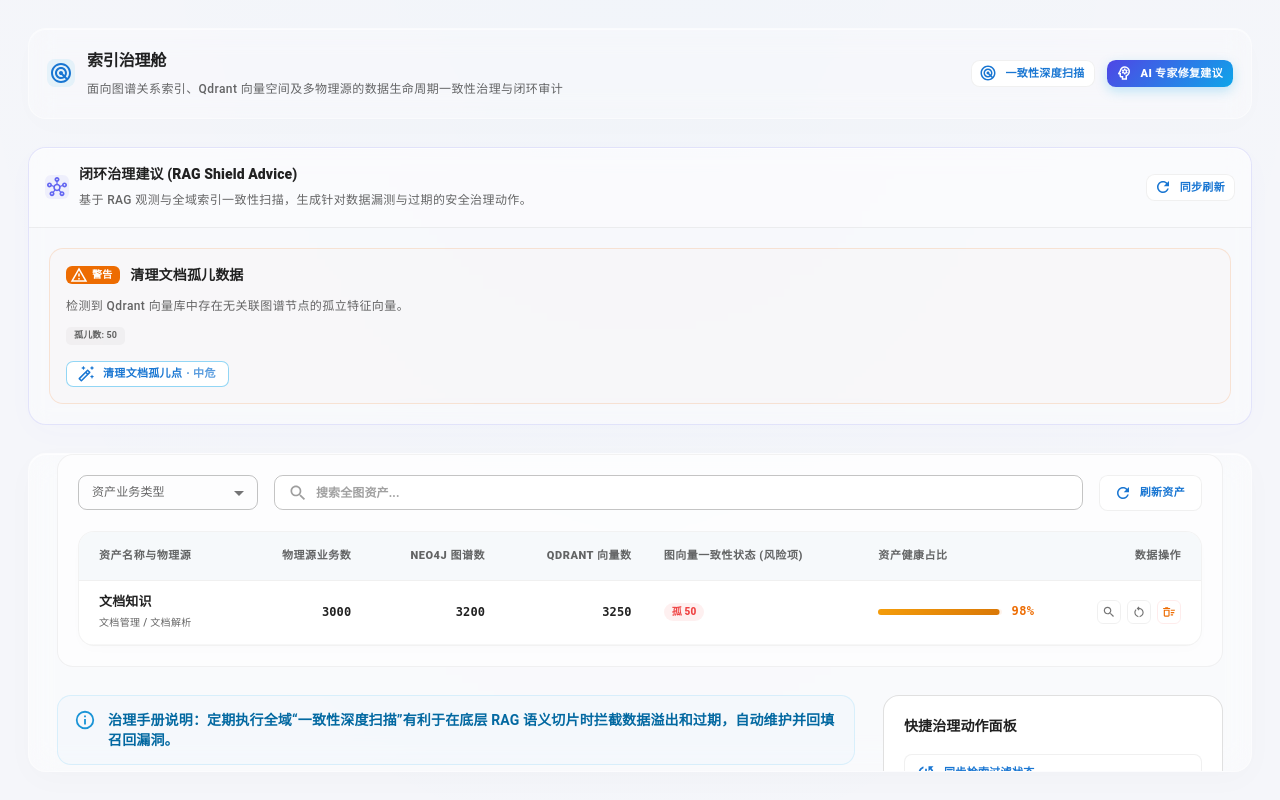
Test: IndexGovernancePage › opens detailed asset difference dialog and renders dark terminal with missing UUIDs
(page scrolled)
# Click "查看资产差异" aria-labeled button in actions
Click the button named "查看资产差异".
click(1109, 612)  # box [1097, 600, 1121, 624]
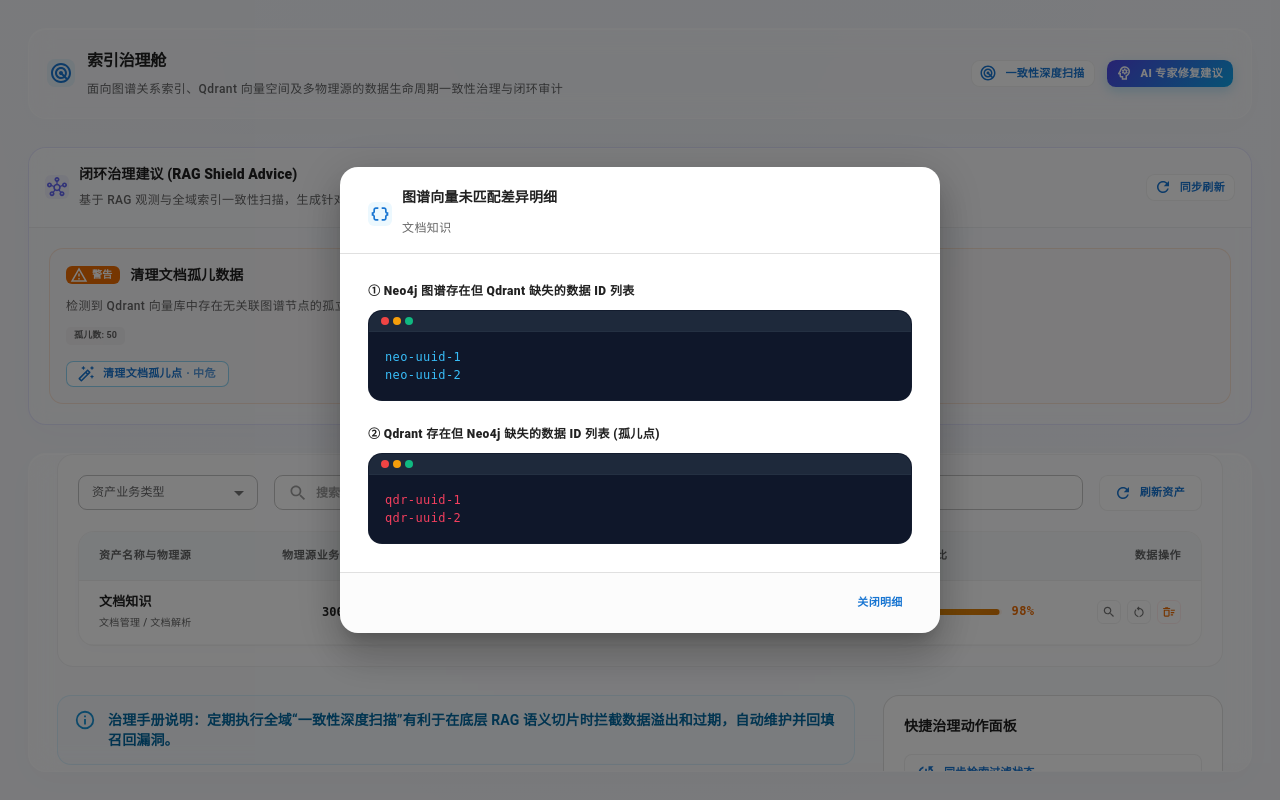
Expected: the heading "图谱向量未匹配差异明细" is shown, [402, 188, 557, 210]
Expected: the text "neo-uuid-1" is shown, [385, 350, 461, 364]
Expected: the text "qdr-uuid-1" is shown, [385, 493, 461, 507]
